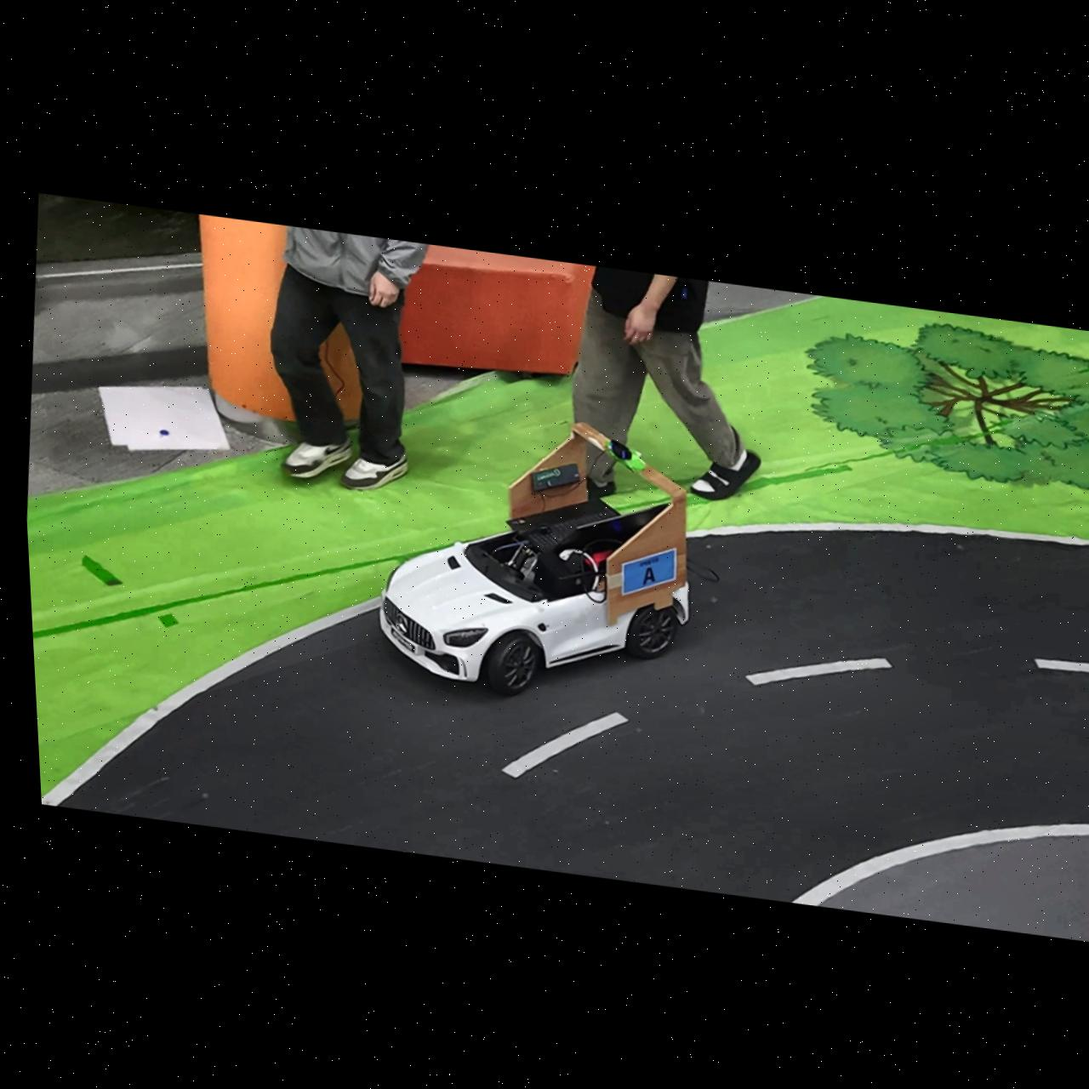broken_line: (502, 712, 627, 778), (746, 658, 891, 685), (1035, 659, 1089, 673)
